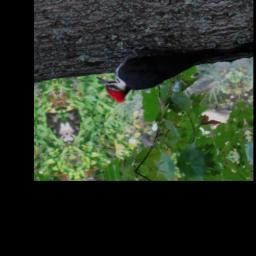Woodpecker: (89, 26, 237, 108)
